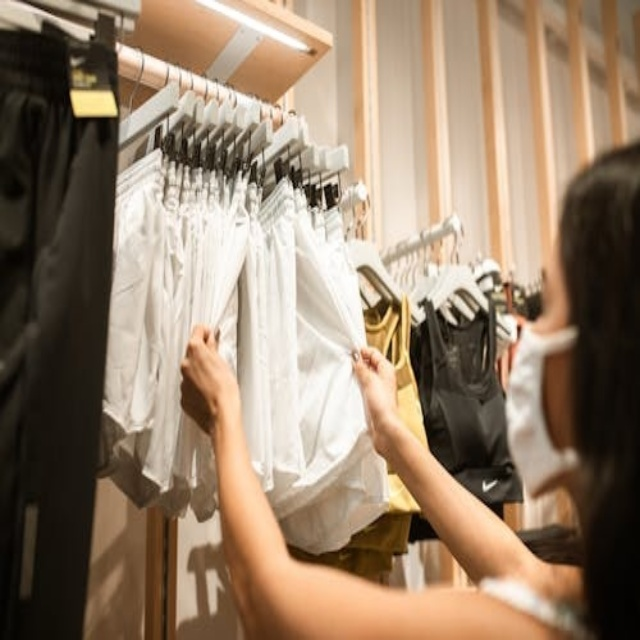Mascara: (505, 322, 584, 501)
Sin_guantes: (347, 344, 402, 455), (178, 320, 232, 433)
